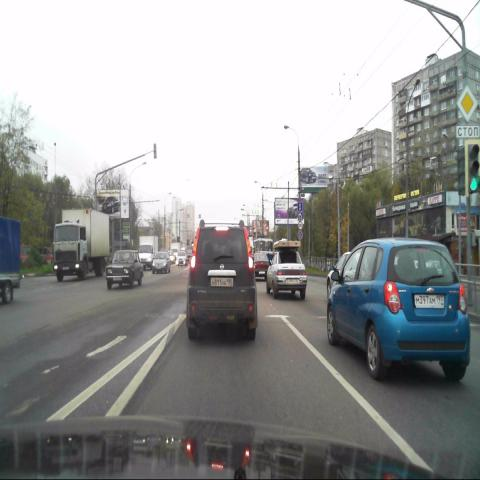2_1: (455, 84, 478, 124)
6_16: (454, 125, 480, 139)
